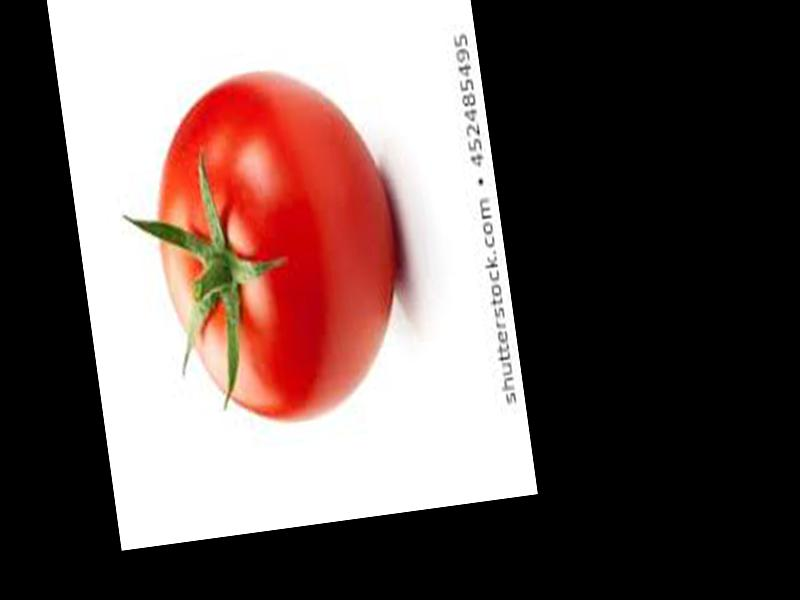Tomato: (139, 61, 418, 431)
